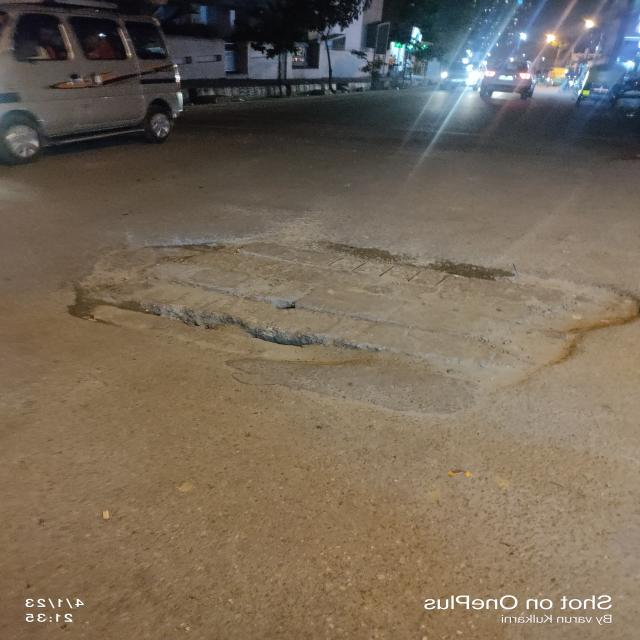potholes: (53, 224, 640, 436)
